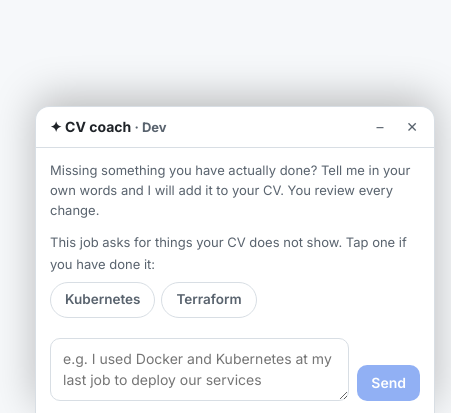
Test: CoachDock › turns what you say into an editable proposal and writes it to your CV only when you accept
Click the button "Kubernetes".
click(103, 300)  # box [50,282,156,318]
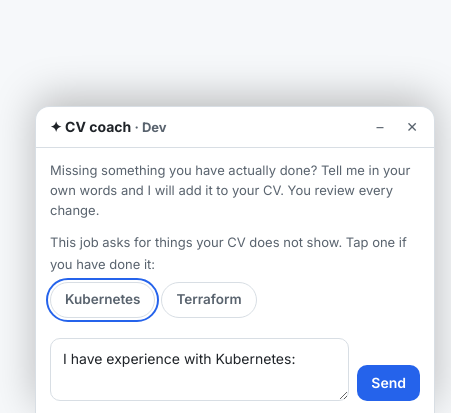
Click the button "Send".
click(389, 383)  # box [357,365,420,401]
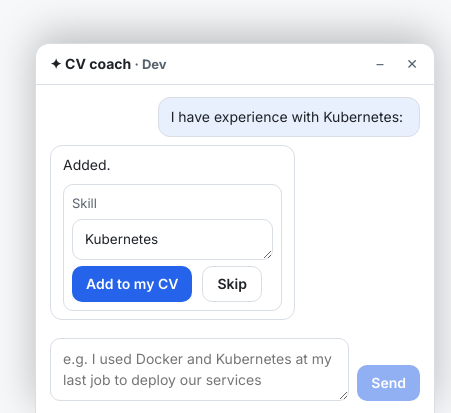
Expected: the text box named "Edit Skill" holds "Kubernetes"
Replace the text in the text box named "Edit Skill" with "Kubernetes (EKS)" at (172, 239), box [72,219,273,260]
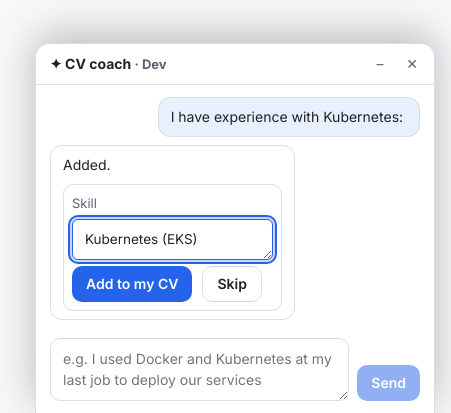
Click the button "Add to my CV".
click(132, 284)  # box [72,266,192,302]
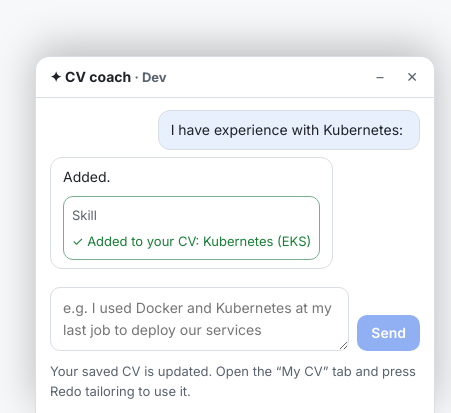
Expected: the text "✓ Added to your CV: Kubernetes (EKS)" is shown, [72,231,311,251]
